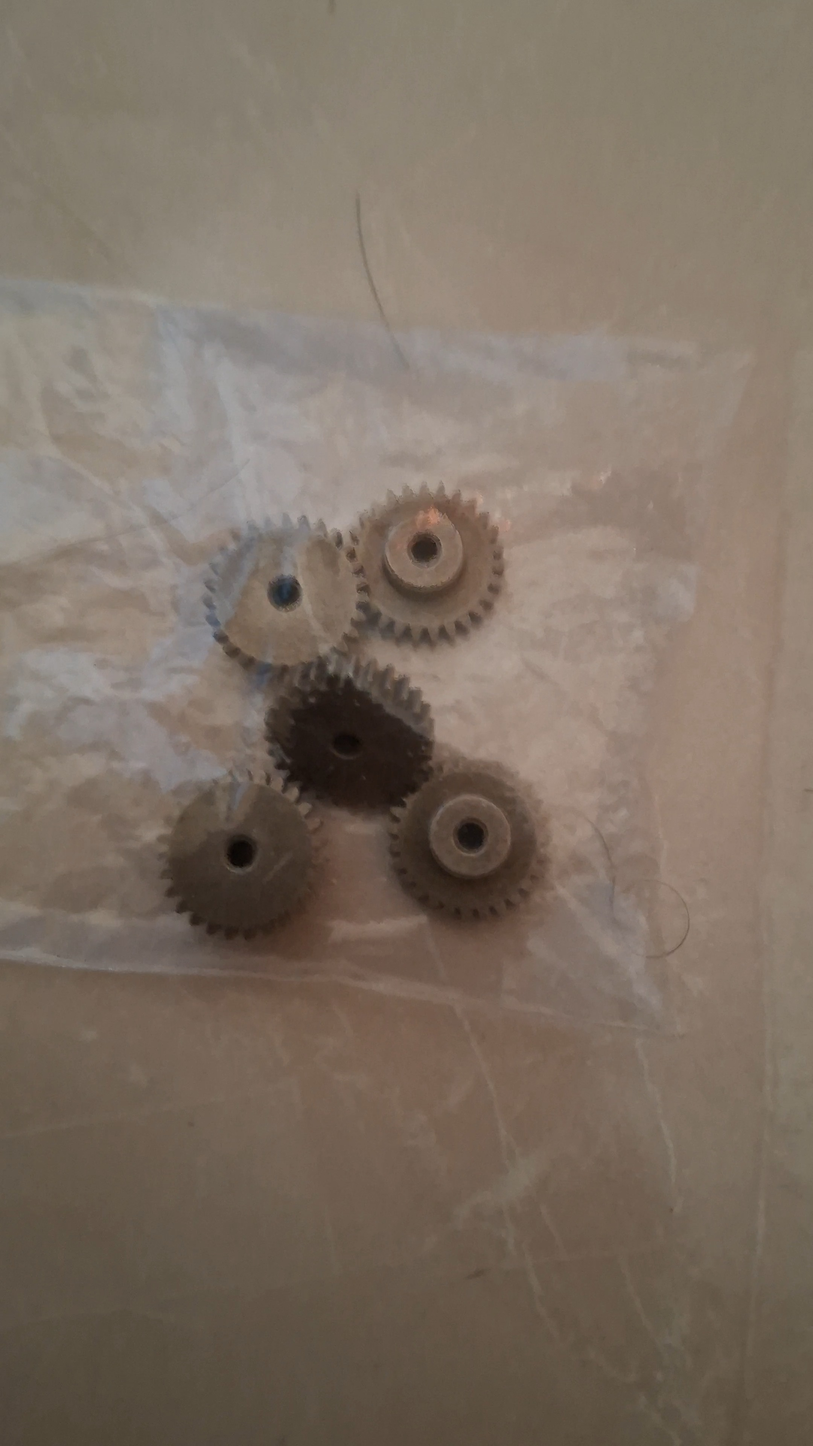spur gear: (164, 771, 317, 937), (205, 516, 364, 675), (390, 762, 547, 919), (267, 659, 433, 807), (350, 487, 503, 642)
